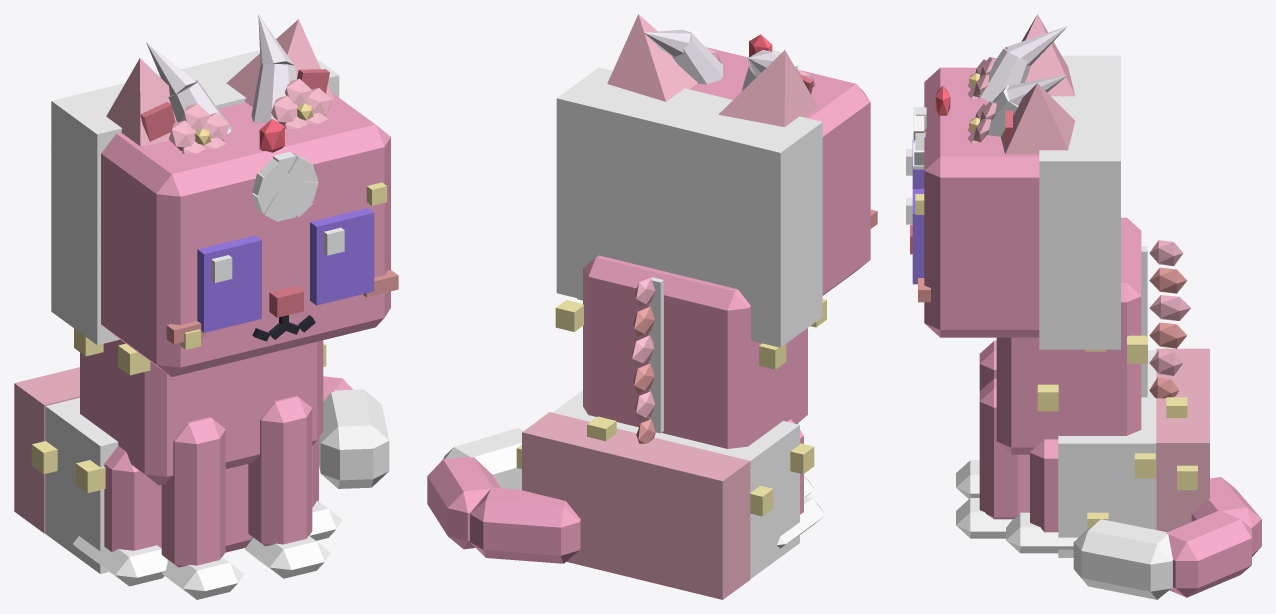
Rendered from CatCafe_Cat_PetalDragon_Sit.glb.
The picture shows the model from 3 angles, left to right: view 1: azimuth 30°, elevation 25°; view 2: azimuth 150°, elevation 25°; view 3: azimuth 270°, elevation 25°; orthographic projection. The views are drawn at different scales.
Parts seen in each view (by area): view 1: CatCafe_Cat_PetalDragon_Sit_Head, CatCafe_Cat_PetalDragon_Sit_Body, CatCafe_Cat_PetalDragon_Sit_LegF1, CatCafe_Cat_PetalDragon_Sit_LegF2, CatCafe_Cat_PetalDragon_Sit_Prop, CatCafe_Cat_PetalDragon_Sit_Tail, CatCafe_Cat_PetalDragon_Sit_Eye1, CatCafe_Cat_PetalDragon_Sit_Eye2, CatCafe_Cat_PetalDragon_Sit_EarR, CatCafe_Cat_PetalDragon_Sit_EarL, CatCafe_Cat_PetalDragon_Sit_Glow; view 2: CatCafe_Cat_PetalDragon_Sit_Body, CatCafe_Cat_PetalDragon_Sit_Head, CatCafe_Cat_PetalDragon_Sit_Tail, CatCafe_Cat_PetalDragon_Sit_EarR, CatCafe_Cat_PetalDragon_Sit_EarL, CatCafe_Cat_PetalDragon_Sit_Prop, CatCafe_Cat_PetalDragon_Sit_Spines_Glow, CatCafe_Cat_PetalDragon_Sit_Prop2; view 3: CatCafe_Cat_PetalDragon_Sit_Head, CatCafe_Cat_PetalDragon_Sit_Body, CatCafe_Cat_PetalDragon_Sit_Tail, CatCafe_Cat_PetalDragon_Sit_LegF1, CatCafe_Cat_PetalDragon_Sit_Prop, CatCafe_Cat_PetalDragon_Sit_Spines_Glow, CatCafe_Cat_PetalDragon_Sit_EarL, CatCafe_Cat_PetalDragon_Sit_EarR, CatCafe_Cat_PetalDragon_Sit_LegF2, CatCafe_Cat_PetalDragon_Sit_Eye1, CatCafe_Cat_PetalDragon_Sit_Prop2.
Part boxes in pixels (left/top/right/bottom): CatCafe_Cat_PetalDragon_Sit_Head: left=51, top=50, right=398, bottom=376; CatCafe_Cat_PetalDragon_Sit_Body: left=14, top=328, right=342, bottom=586; CatCafe_Cat_PetalDragon_Sit_LegF1: left=245, top=396, right=330, bottom=578; CatCafe_Cat_PetalDragon_Sit_LegF2: left=161, top=417, right=243, bottom=599; CatCafe_Cat_PetalDragon_Sit_Prop: left=146, top=14, right=331, bottom=153; CatCafe_Cat_PetalDragon_Sit_Tail: left=319, top=376, right=389, bottom=488; CatCafe_Cat_PetalDragon_Sit_Eye1: left=310, top=208, right=374, bottom=305; CatCafe_Cat_PetalDragon_Sit_Eye2: left=197, top=235, right=261, bottom=332; CatCafe_Cat_PetalDragon_Sit_EarR: left=106, top=58, right=177, bottom=146; CatCafe_Cat_PetalDragon_Sit_EarL: left=226, top=19, right=333, bottom=107; CatCafe_Cat_PetalDragon_Sit_Glow: left=259, top=118, right=284, bottom=152; CatCafe_Cat_PetalDragon_Sit_Body: left=516, top=255, right=826, bottom=599; CatCafe_Cat_PetalDragon_Sit_Head: left=556, top=47, right=877, bottom=347; CatCafe_Cat_PetalDragon_Sit_Tail: left=427, top=428, right=580, bottom=563; CatCafe_Cat_PetalDragon_Sit_EarR: left=718, top=50, right=817, bottom=126; CatCafe_Cat_PetalDragon_Sit_EarL: left=607, top=14, right=697, bottom=101; CatCafe_Cat_PetalDragon_Sit_Prop: left=644, top=29, right=815, bottom=90; CatCafe_Cat_PetalDragon_Sit_Spines_Glow: left=632, top=277, right=655, bottom=443; CatCafe_Cat_PetalDragon_Sit_Prop2: left=648, top=277, right=663, bottom=433; CatCafe_Cat_PetalDragon_Sit_Head: left=910, top=55, right=1120, bottom=349; CatCafe_Cat_PetalDragon_Sit_Body: left=996, top=217, right=1209, bottom=557; CatCafe_Cat_PetalDragon_Sit_Tail: left=1073, top=477, right=1261, bottom=599; CatCafe_Cat_PetalDragon_Sit_LegF1: left=956, top=378, right=1029, bottom=538; CatCafe_Cat_PetalDragon_Sit_Prop: left=967, top=26, right=1067, bottom=143; CatCafe_Cat_PetalDragon_Sit_Spines_Glow: left=1149, top=240, right=1190, bottom=398; CatCafe_Cat_PetalDragon_Sit_EarL: left=1001, top=83, right=1075, bottom=154; CatCafe_Cat_PetalDragon_Sit_EarR: left=1005, top=14, right=1075, bottom=96; CatCafe_Cat_PetalDragon_Sit_LegF2: left=956, top=340, right=996, bottom=498; CatCafe_Cat_PetalDragon_Sit_Eye1: left=906, top=189, right=924, bottom=284; CatCafe_Cat_PetalDragon_Sit_Prop2: left=1141, top=246, right=1147, bottom=397.
Size of the model in its own units: 1.68 by 2.4 by 1.67.
1 material, 1 textured.
